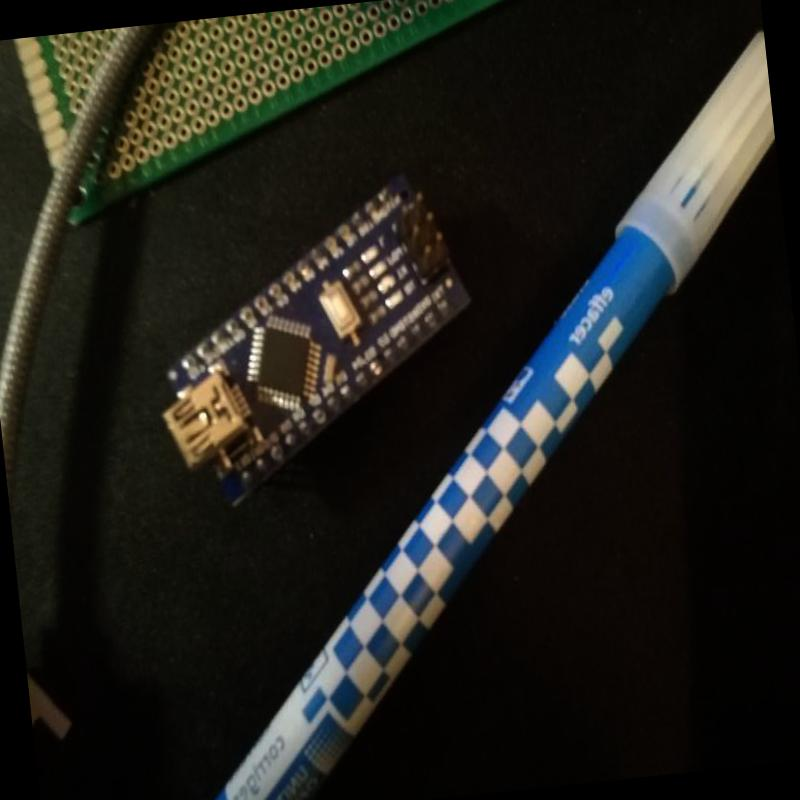Arduino_Nano: (137, 162, 495, 517)
